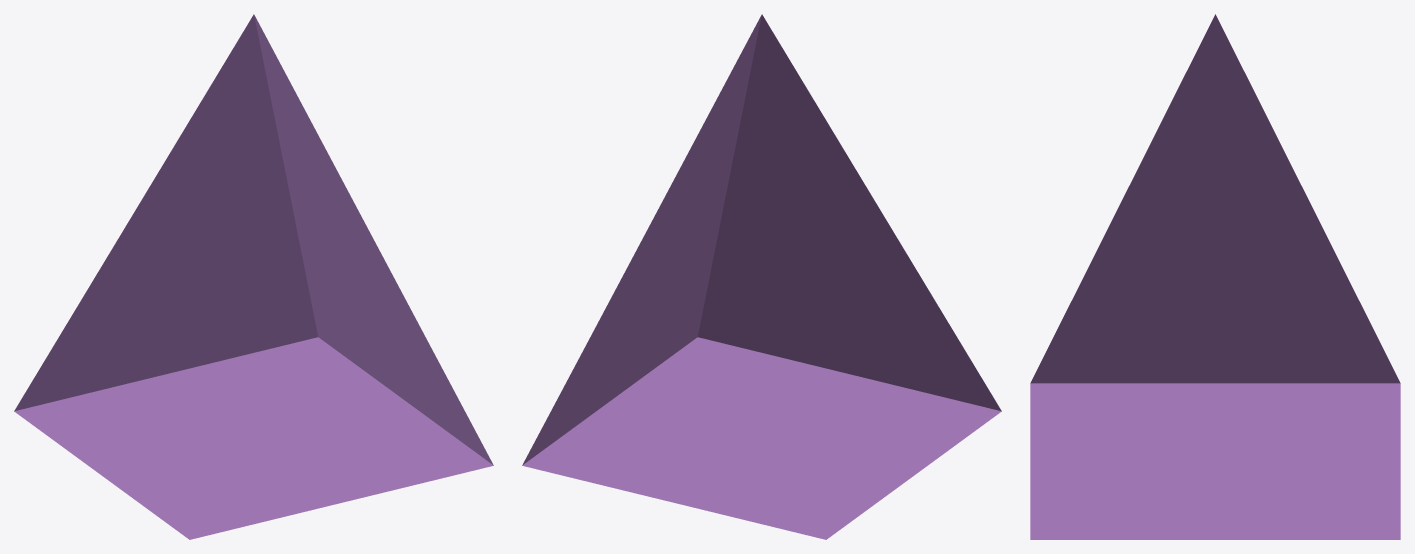
The model's file is 3d-elementary-pyramid-purple-20260125.glb.
3 views of the same model, side by side, from view 1: azimuth 30°, elevation 25°; view 2: azimuth 150°, elevation 25°; view 3: azimuth 270°, elevation 25° (orthographic). The views are drawn at different scales.
Parts seen in each view (by area): view 1: Pyramid; view 2: Pyramid; view 3: Pyramid.
Part boxes in pixels (x1=…): Pyramid: x1=14, y1=14, x2=493, y2=539; Pyramid: x1=522, y1=14, x2=1001, y2=539; Pyramid: x1=1030, y1=14, x2=1400, y2=539.
Size of the model in its own units: 1.5 by 2 by 1.5.
